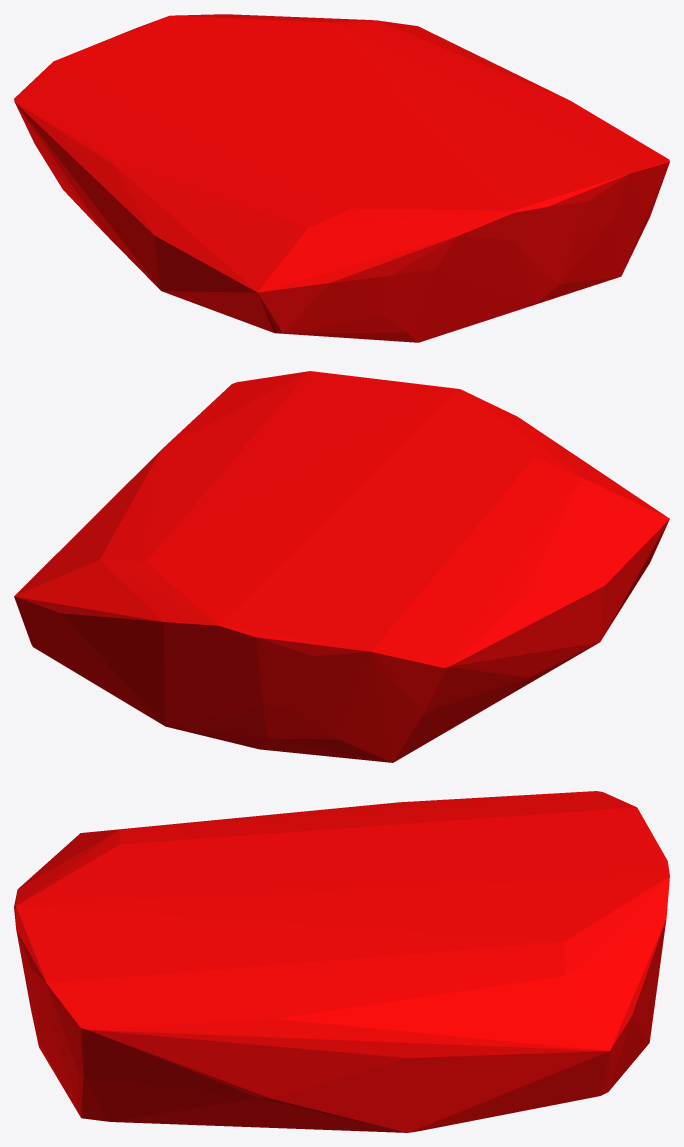
File: wrist_pitch_0091_convex_hull_02.obj
3 renders of one model, top to bottom at view 1: azimuth 30°, elevation 25°; view 2: azimuth 150°, elevation 25°; view 3: azimuth 270°, elevation 25°, orthographic. The views are drawn at different scales.
Parts seen in each view (by area): view 1: wrist_pitch_0091_convex_hull_02; view 2: wrist_pitch_0091_convex_hull_02; view 3: wrist_pitch_0091_convex_hull_02.
Part boxes in pixels (<box>): wrist_pitch_0091_convex_hull_02: <box>14,14,669,342</box>; wrist_pitch_0091_convex_hull_02: <box>14,371,669,762</box>; wrist_pitch_0091_convex_hull_02: <box>14,791,669,1132</box>.
Size of the model in its own units: 0.0518 by 0.014 by 0.0594.
